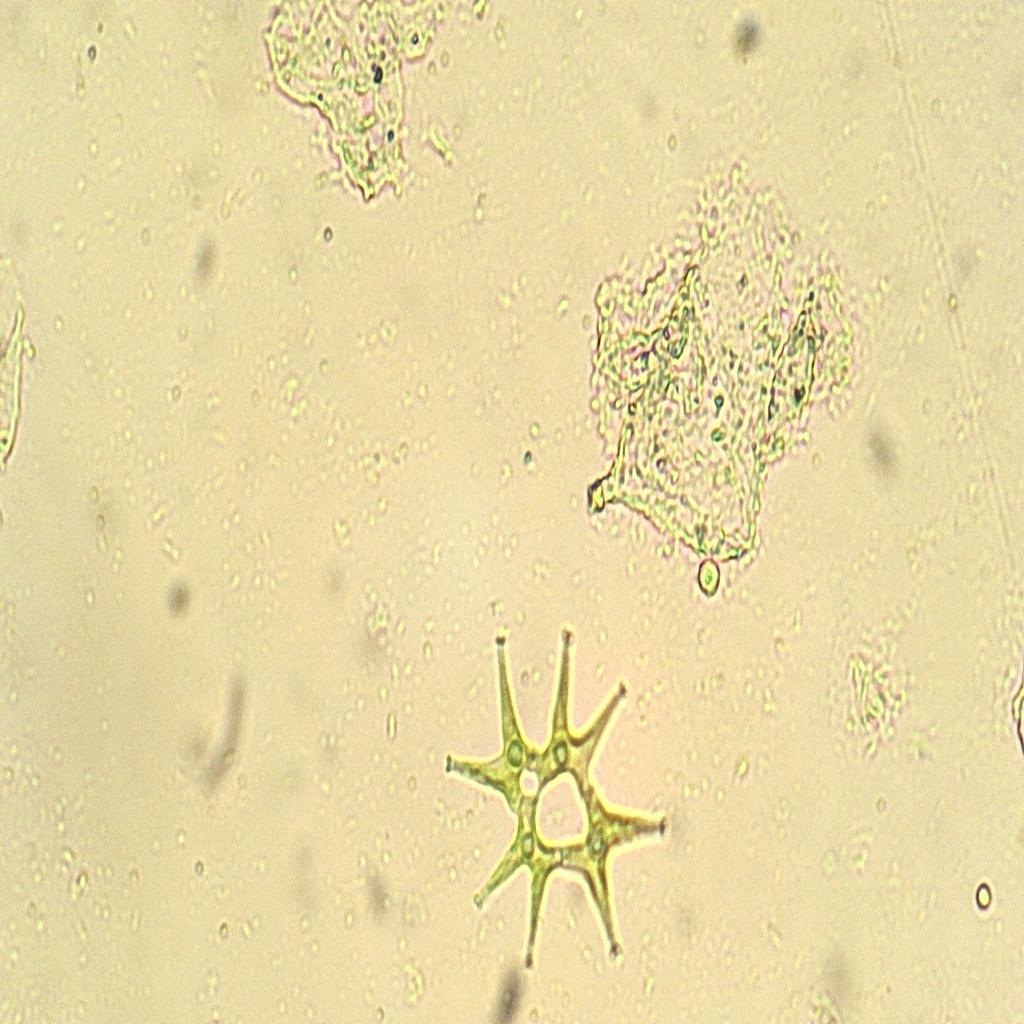Pediastrum_75FO: (437, 611, 676, 984)
